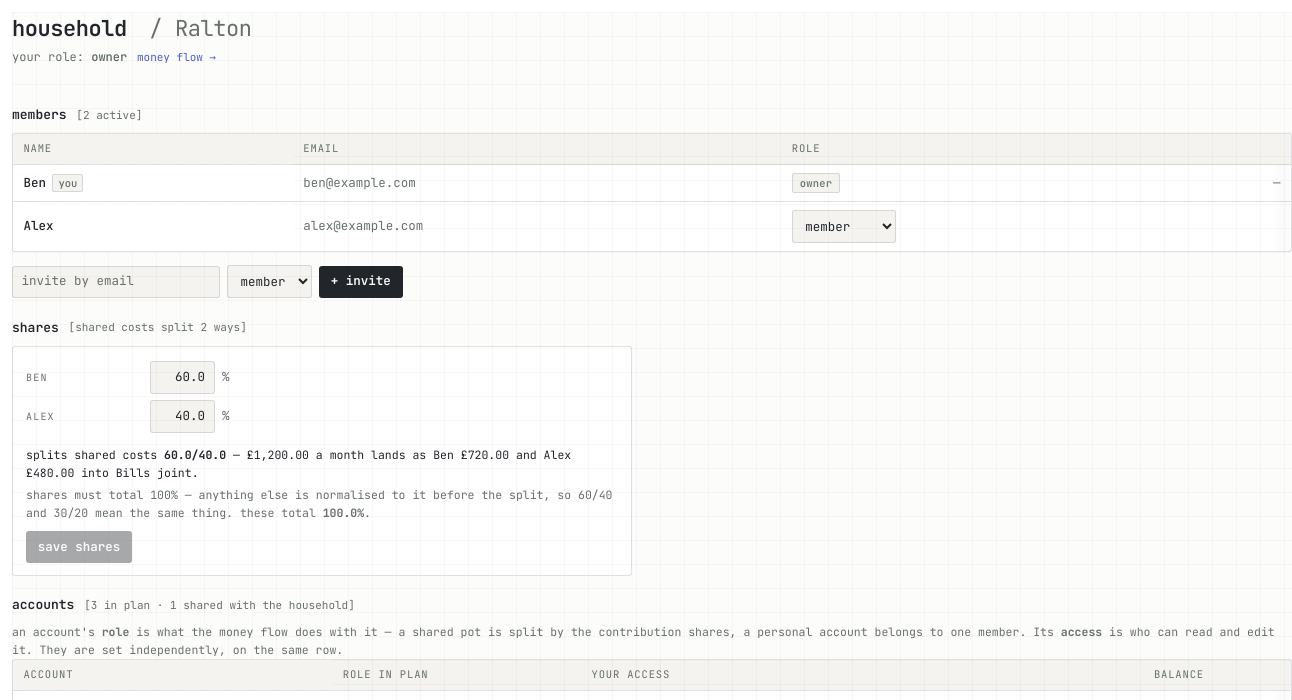
Scenario: HouseholdDetailPage — the shares block › saves on demand, confirms it, and re-reads the plan the split applies to
Expected: the button "save shares" is disabled, top-left (26, 531), bottom-right (132, 563)
Replace the text in the field named "Ben's share of shared costs, percent" with "70" at (182, 378), box top-left (150, 362), bottom-right (214, 394)
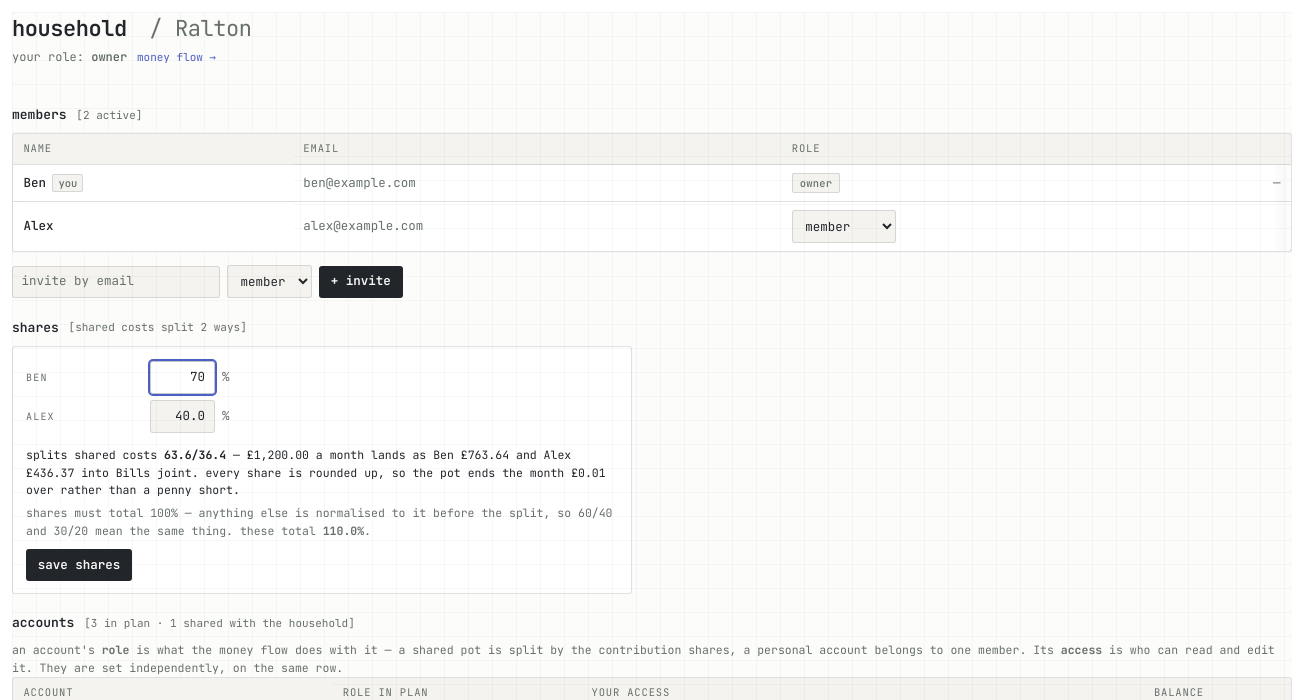
Replace the text in the field named "Alex's share of shared costs, percent" with "30" at (182, 417), box top-left (150, 400), bottom-right (214, 433)
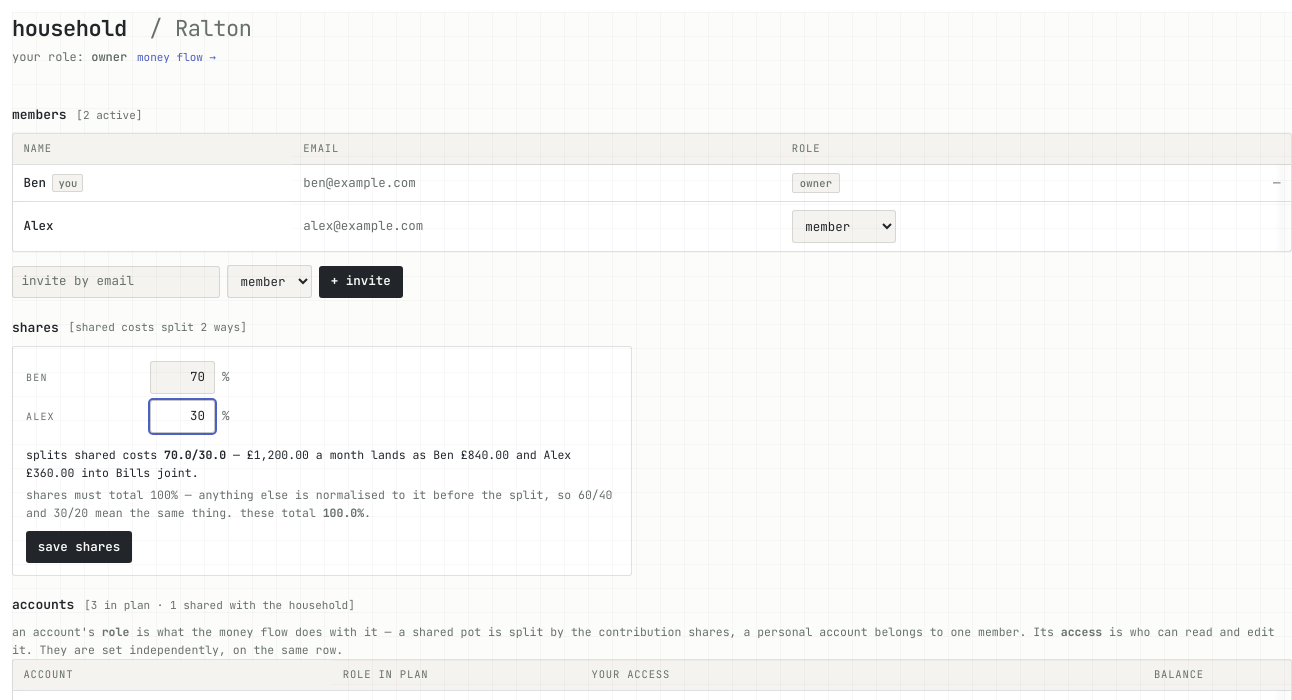
Click the button "save shares" at (79, 547), box top-left (26, 531), bottom-right (132, 563)
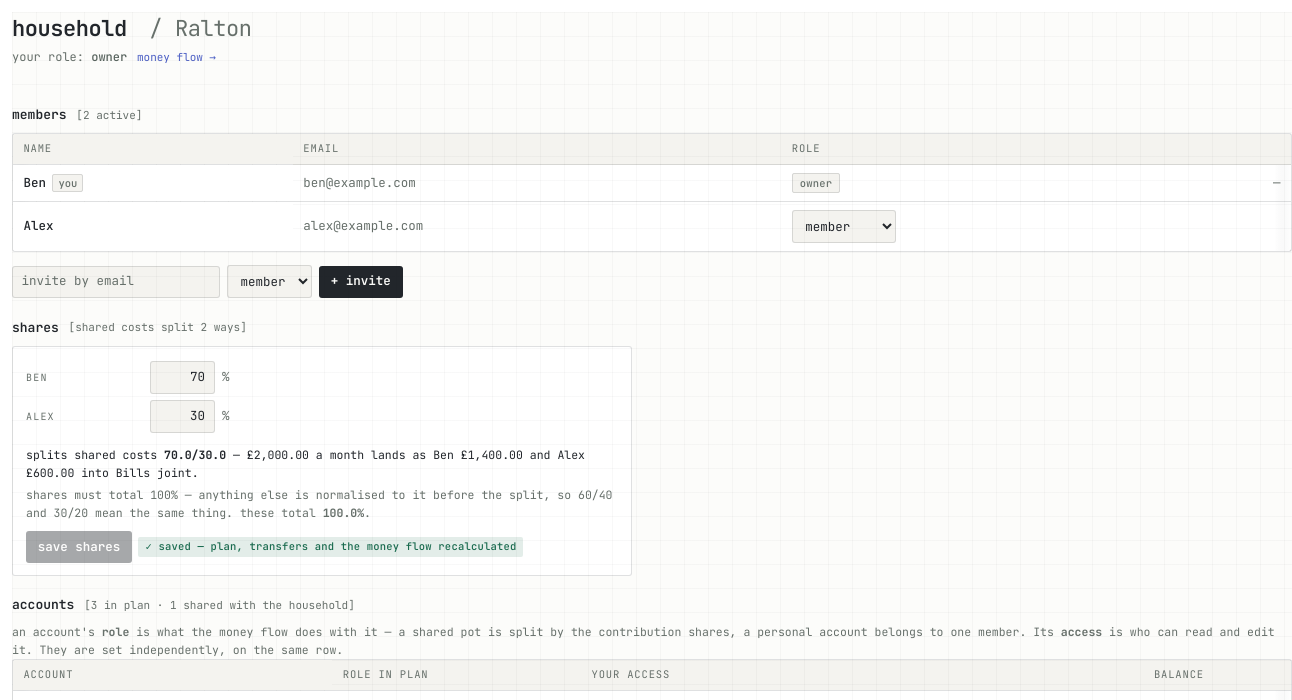
Expected: the message reads "✓ saved — plan, transfers and the money flow recalculated", top-left (145, 539), bottom-right (516, 553)
Expected: the text "splits shared costs" shows "splits shared costs 70.0/30.0 — £2,000.00 a month lands as Ben £1,400.00 and Alex £600.00 into Bills joint.", top-left (26, 446), bottom-right (618, 481)
